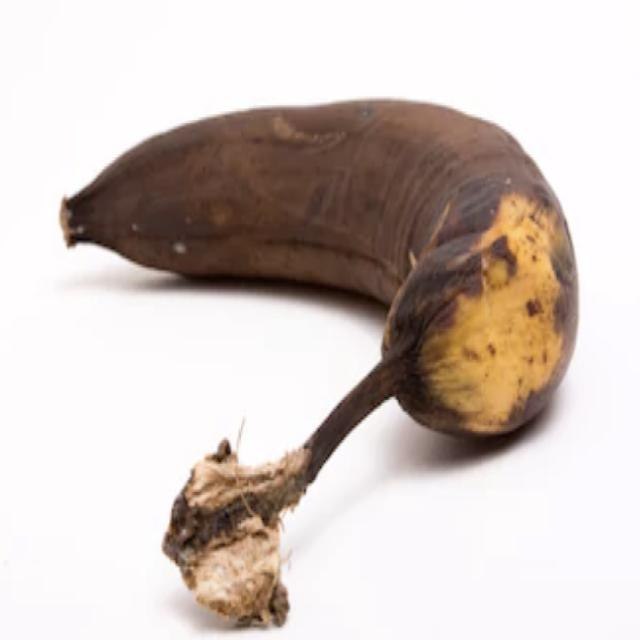Rotten: (46, 82, 588, 640)
